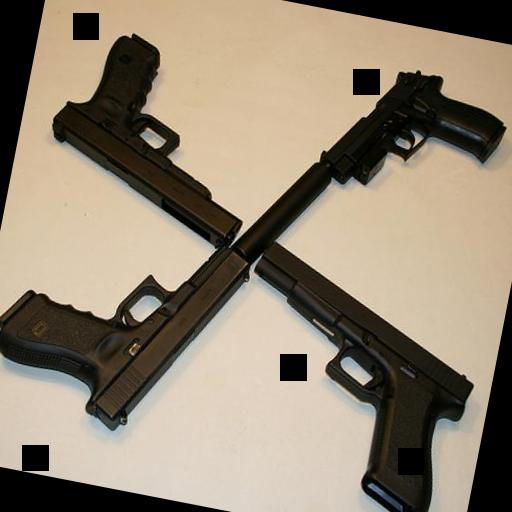Handgun: (212, 236, 491, 512), (0, 202, 249, 446), (32, 18, 272, 250), (308, 52, 512, 220)
